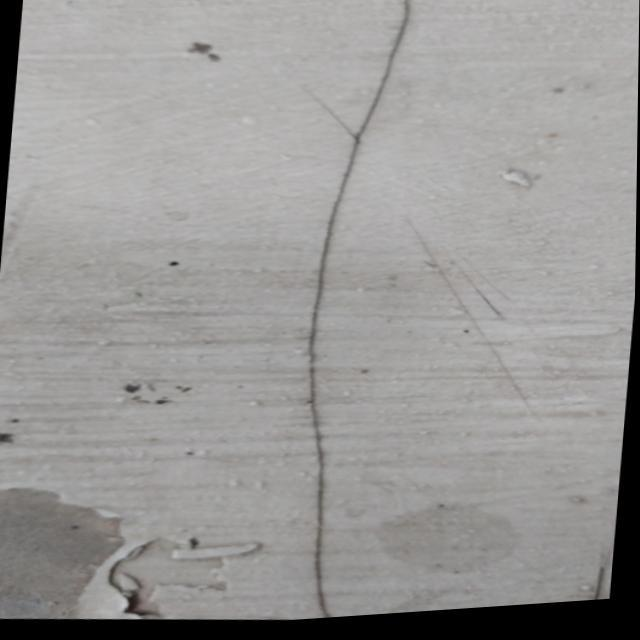Crack: (301, 0, 419, 610)
